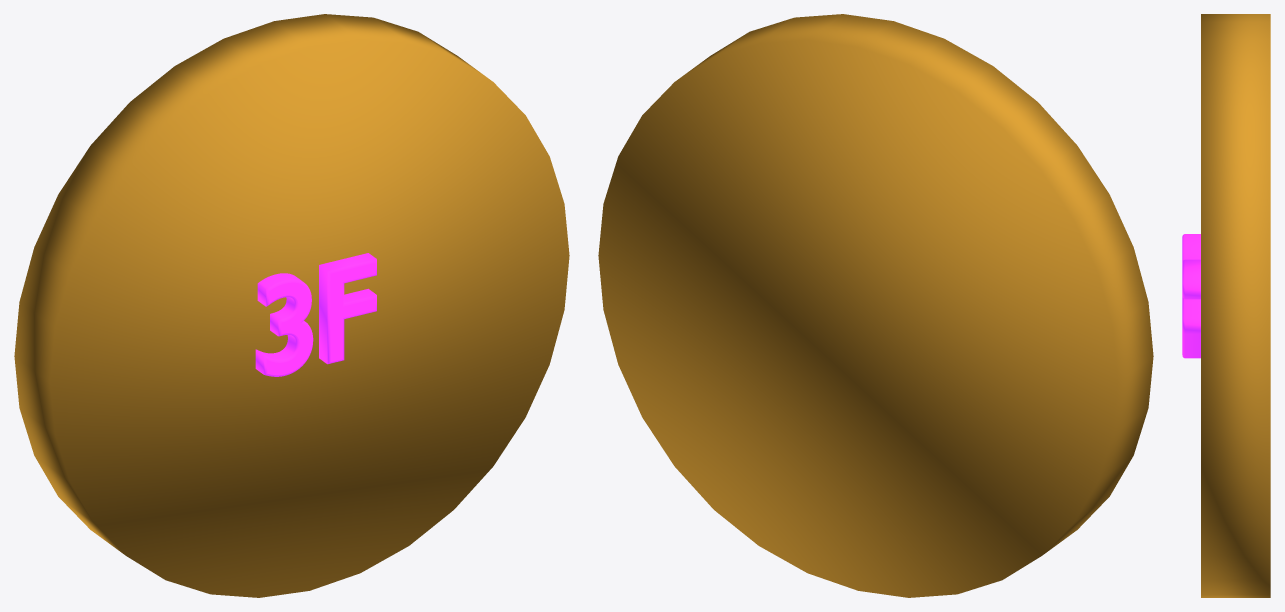
Rendered from EnchantedCoin.glb.
The picture shows the model from 3 angles, left to right: view 1: azimuth 30°, elevation 25°; view 2: azimuth 150°, elevation 25°; view 3: azimuth 270°, elevation 25°; orthographic projection. The views are drawn at different scales.
Parts seen in each view (by area): view 1: VFX_EnchantedCoin; view 2: VFX_EnchantedCoin; view 3: VFX_EnchantedCoin.
Boxes of the visible parts, x1=… form: VFX_EnchantedCoin: x1=14, y1=14, x2=569, y2=597; VFX_EnchantedCoin: x1=598, y1=14, x2=1153, y2=597; VFX_EnchantedCoin: x1=1182, y1=14, x2=1270, y2=597.
Size of the model in its own units: 0.84 by 0.84 by 0.1267.
